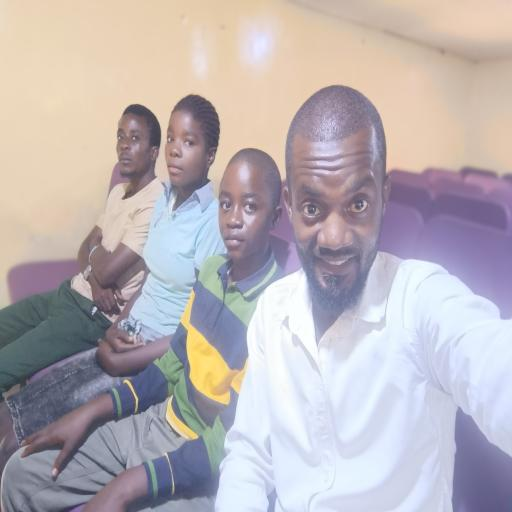MATTHIEU: (286, 81, 388, 314)
